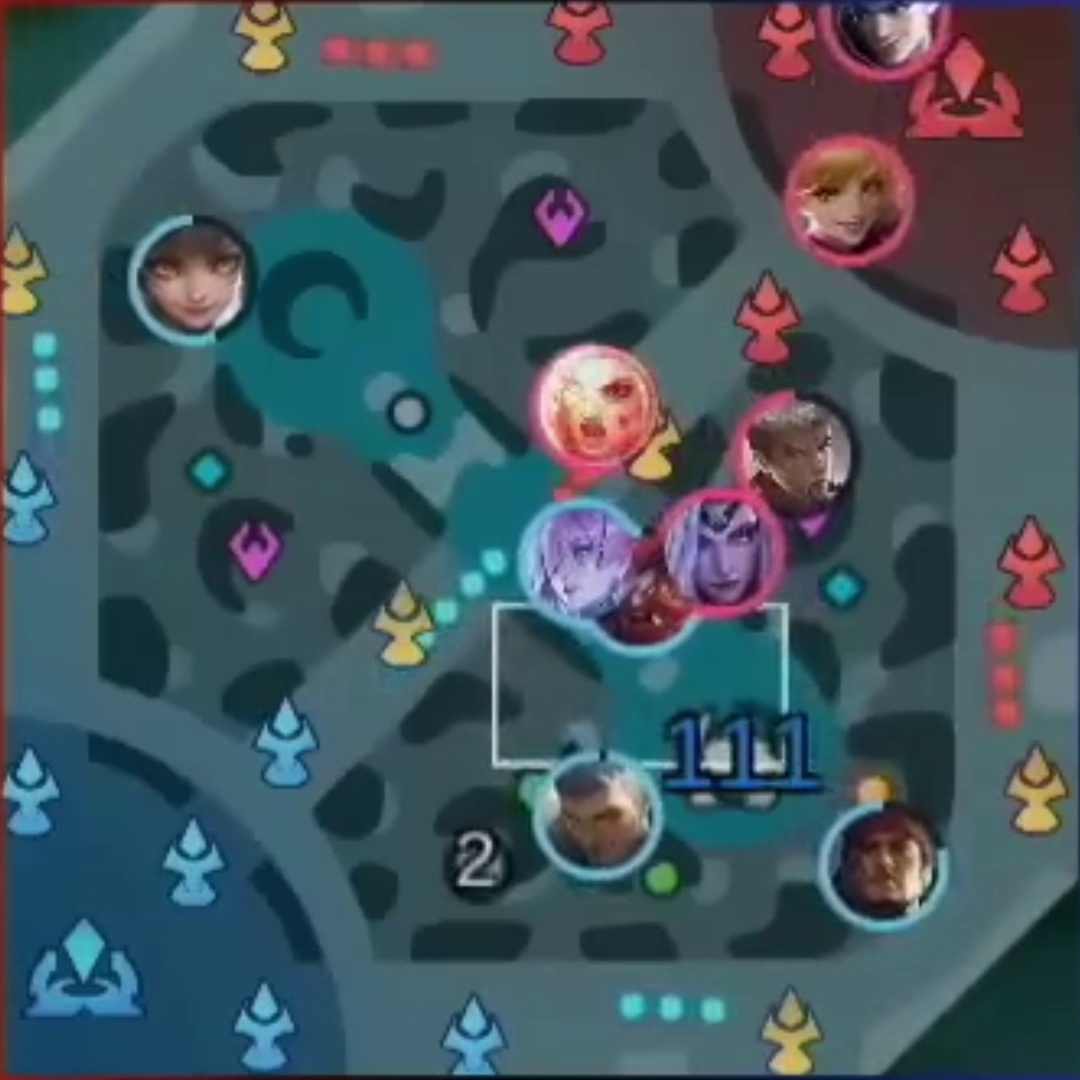Chou: (751, 404, 841, 507)
Claude: (848, 2, 929, 63)
Fanny: (802, 149, 893, 252)
Fredrinn: (557, 771, 644, 864)
Lapu-Lapu: (847, 815, 932, 913)
Masha: (563, 367, 642, 453)
Minotaur: (626, 561, 672, 636)
Novaria: (536, 514, 622, 610)
Valentina: (676, 506, 765, 606)
Wanwan: (146, 234, 242, 324)
